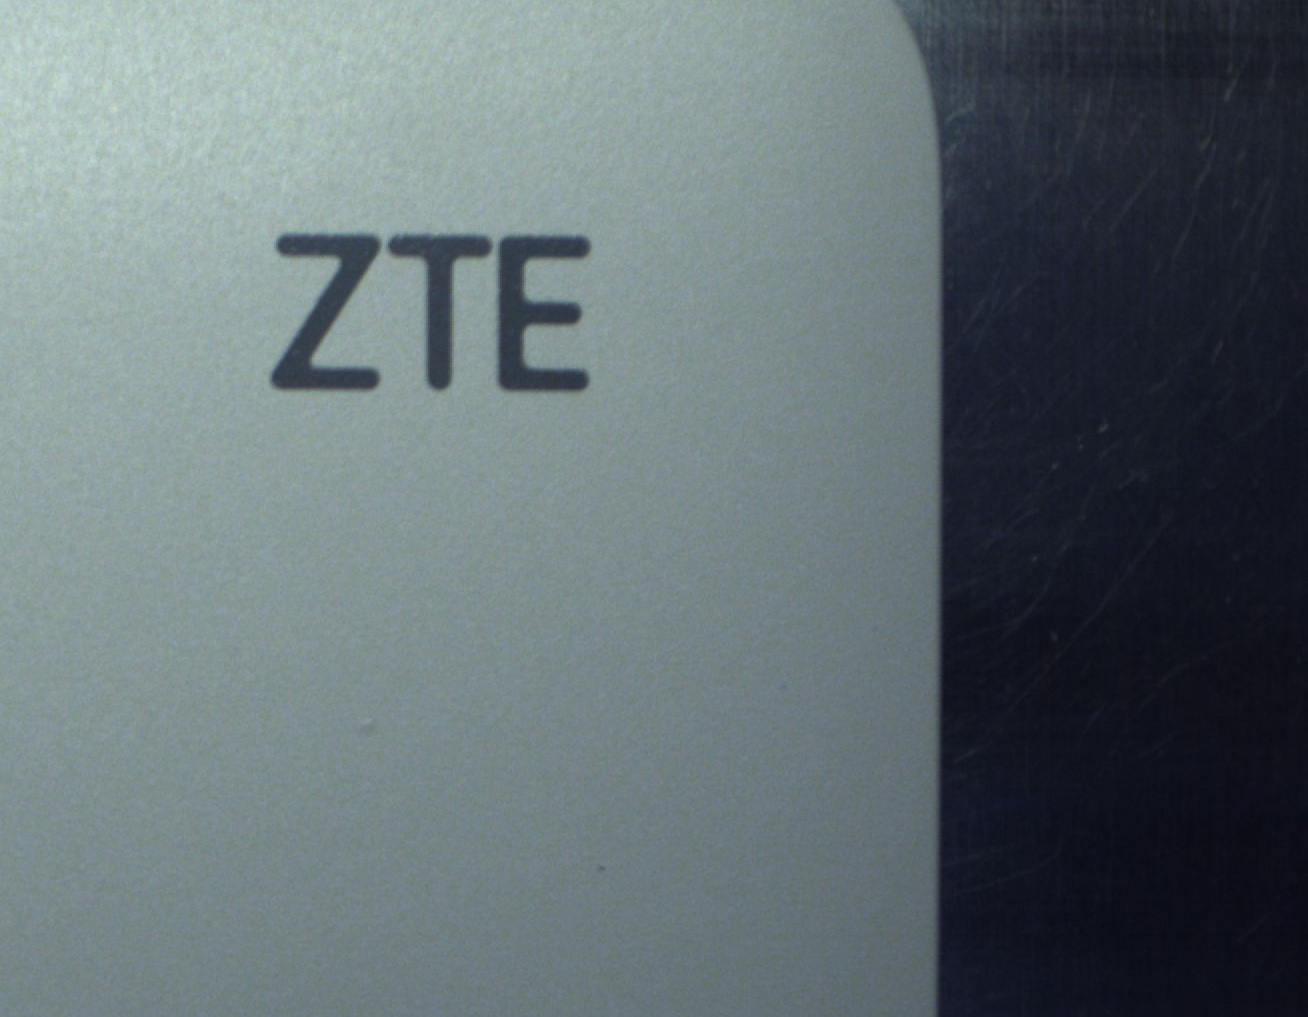AN_ZTE: (257, 193, 646, 401)
